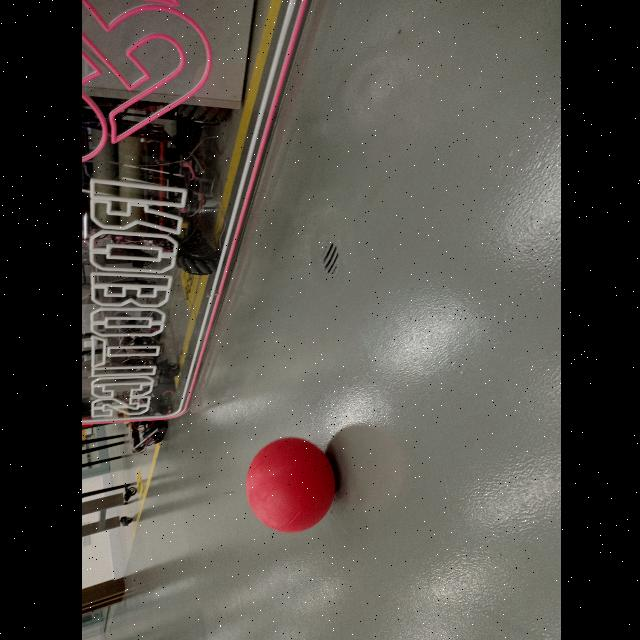R: (243, 438, 333, 532)
